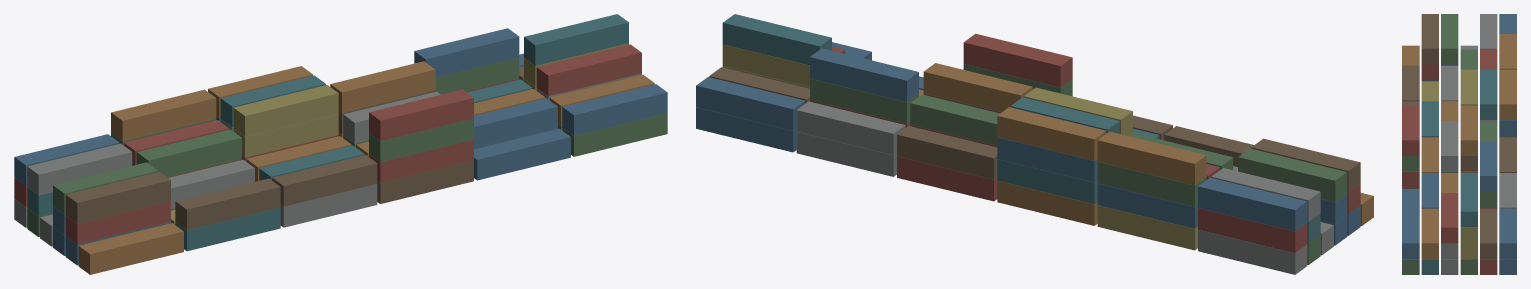
Rendered from container_stack_5.glb.
3 views of the same model, side by side, from view 1: azimuth 30°, elevation 25°; view 2: azimuth 150°, elevation 25°; view 3: azimuth 270°, elevation 25° (orthographic). The views are drawn at different scales.
Parts seen in each view (by area): view 1: LOD0; view 2: LOD0; view 3: LOD0.
Part boxes in pixels (left/top/right/bottom): LOD0: left=14, top=14, right=667, bottom=274; LOD0: left=696, top=14, right=1373, bottom=274; LOD0: left=1402, top=14, right=1516, bottom=274.
Size of what is drawn, in the model's own units: 75.2 by 10.38 by 17.1.
